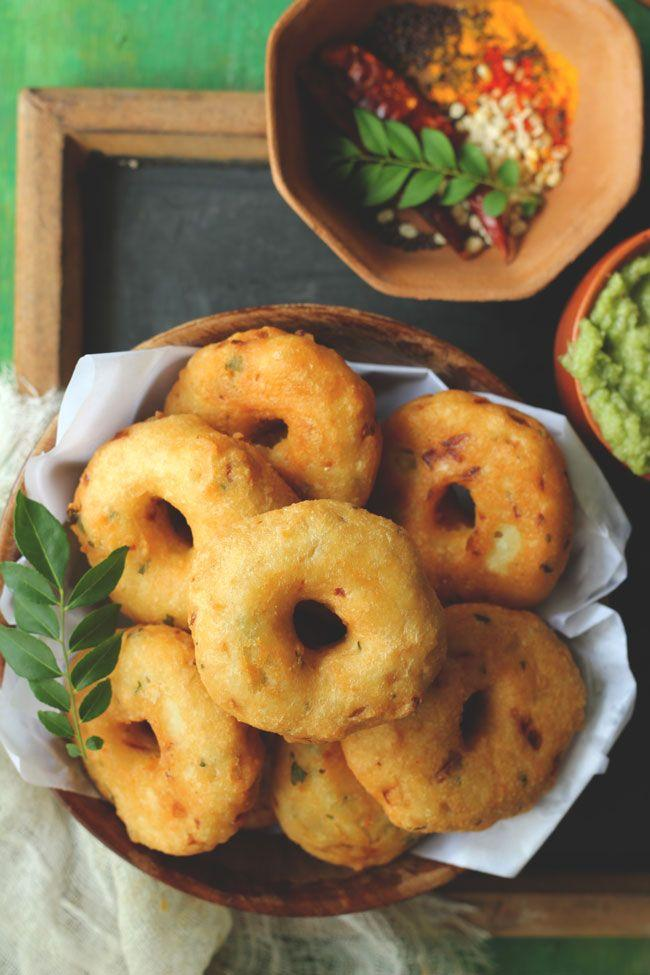medu vada: (69, 325, 595, 893)
